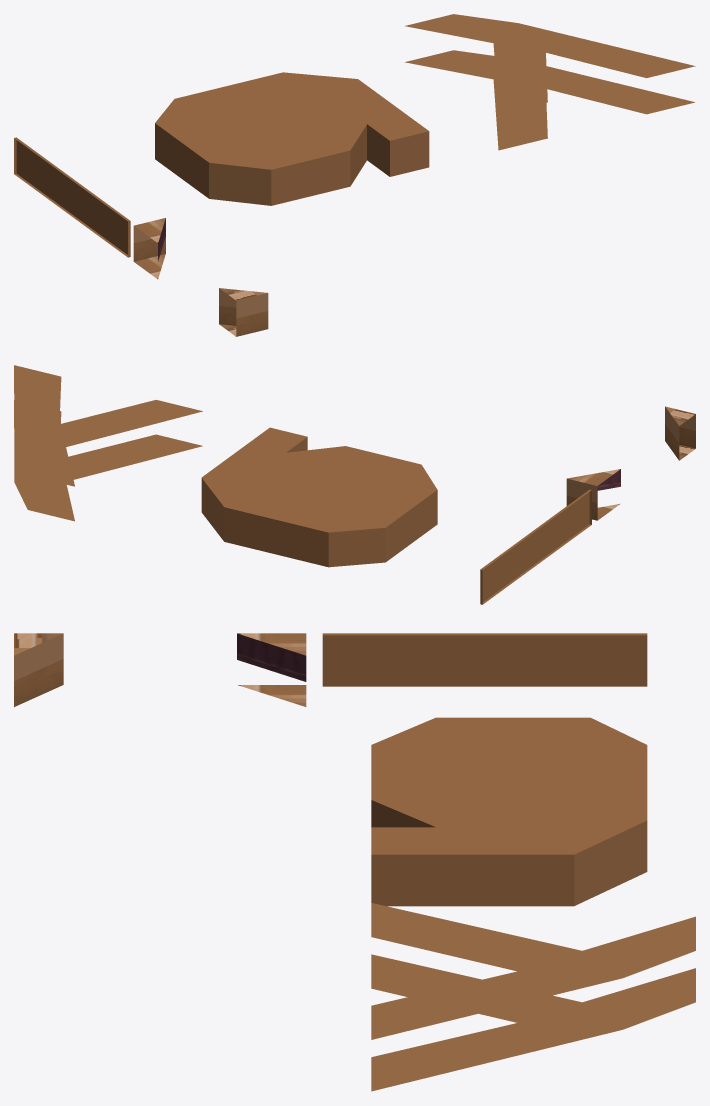
Rendered from section-7.obj.
3 views of the same model, one above another, from view 1: azimuth 30°, elevation 25°; view 2: azimuth 150°, elevation 25°; view 3: azimuth 270°, elevation 25° (orthographic). The views are drawn at different scales.
Bounding box in the file's own units: 0.6992 × 0.0413 × 0.4956.
